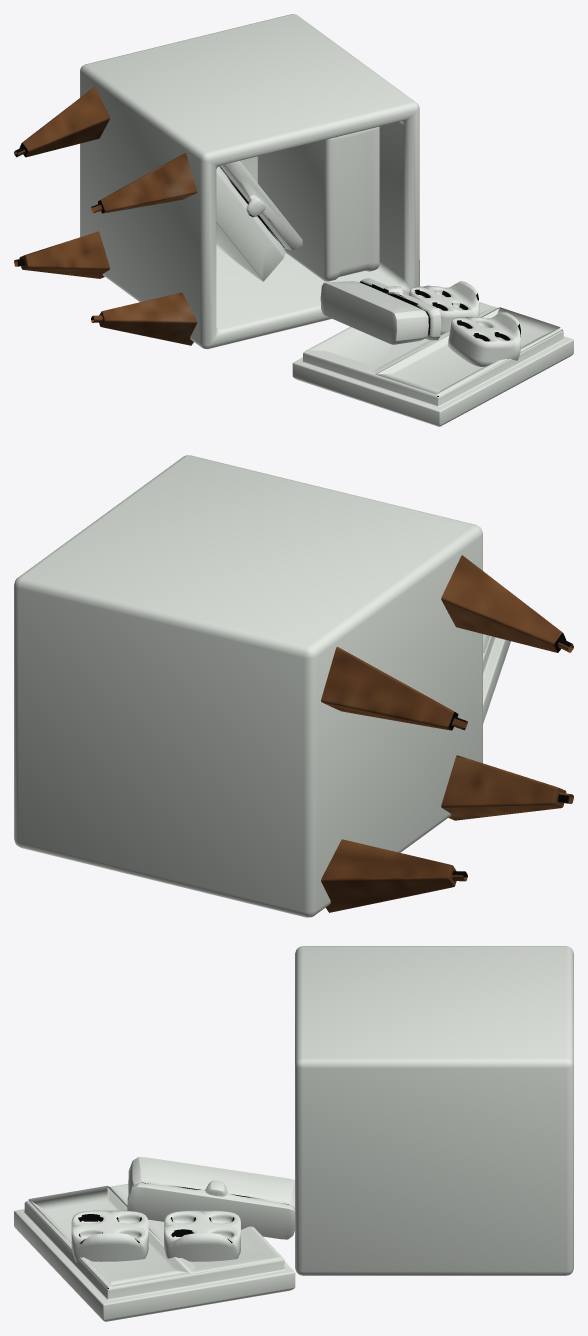
File: FrigobarQuebrado.fbx
The picture shows the model from 3 angles, top to bottom: view 1: azimuth 30°, elevation 25°; view 2: azimuth 150°, elevation 25°; view 3: azimuth 270°, elevation 25°; orthographic projection. The views are drawn at different scales.
Parts seen in each view (by area): view 1: FrigobarQuebrado_LOD0; view 2: FrigobarQuebrado_LOD0; view 3: FrigobarQuebrado_LOD0.
Part boxes in pixels (x1=…): FrigobarQuebrado_LOD0: x1=14, y1=14, x2=573, y2=426; FrigobarQuebrado_LOD0: x1=14, y1=455, x2=573, y2=917; FrigobarQuebrado_LOD0: x1=14, y1=946, x2=573, y2=1321.
Size of what is drawn, in the model's own units: 129 by 68.69 by 153.
